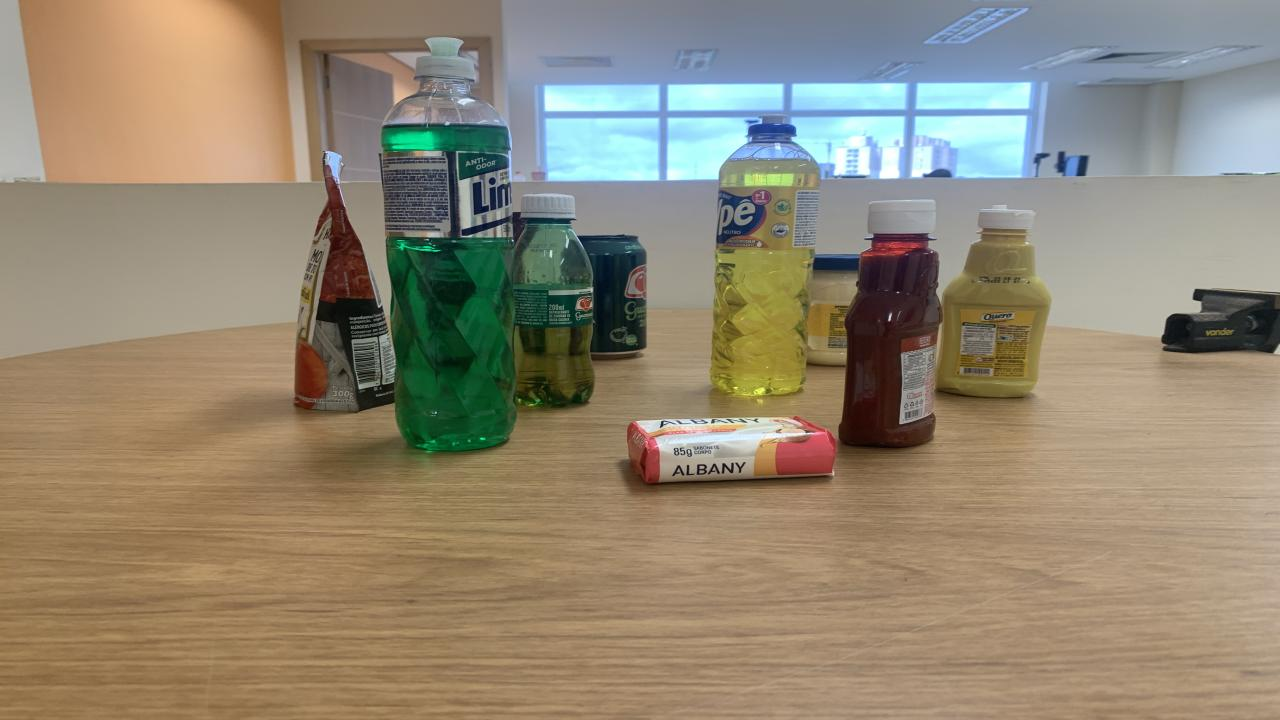Detergent-Cleanup_Items: (380, 38, 515, 450), (710, 116, 820, 396)
Guarana-Drinks: (512, 193, 595, 407)
Guarana_Can-Drinks: (578, 234, 648, 360)
Ketchup-Pantry_Items: (838, 199, 942, 446)
Mayonnaise-Pantry_Items: (808, 255, 860, 366)
Mustard-Pantry_Items: (938, 204, 1050, 398)
Soap-Cleanup_Items: (628, 416, 838, 484)
Tomato_Sauce-Pantry_Items: (292, 152, 395, 411)
